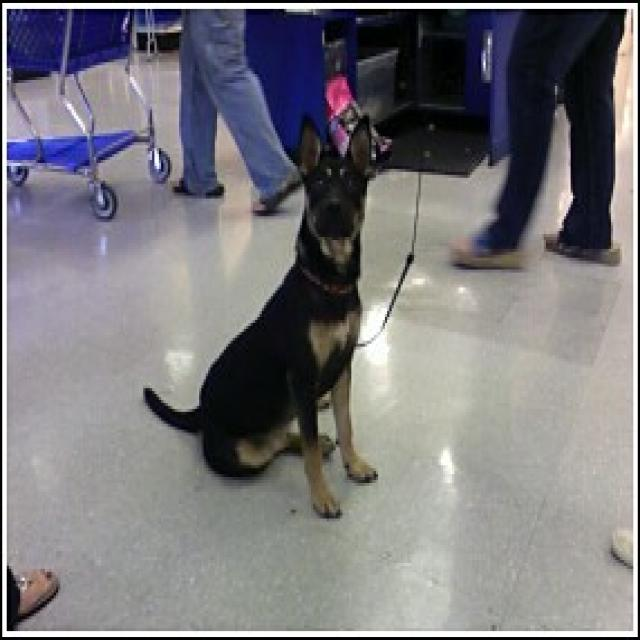Dogs: (141, 106, 392, 518)
